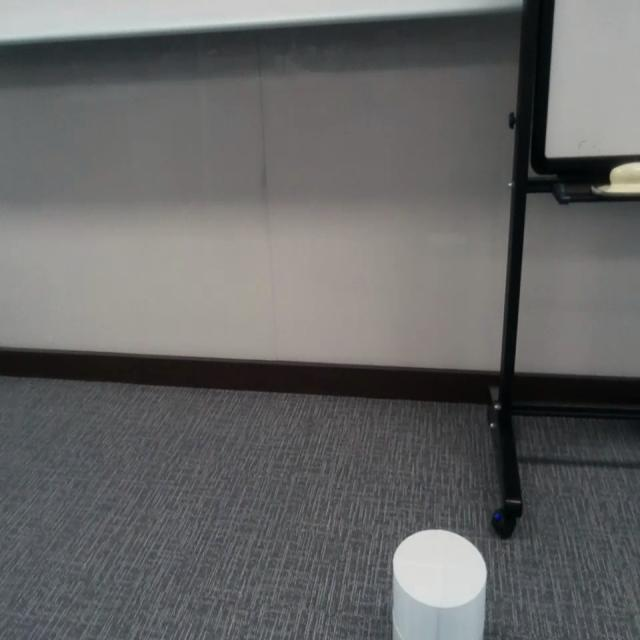cylinder: (391, 530, 488, 640)
